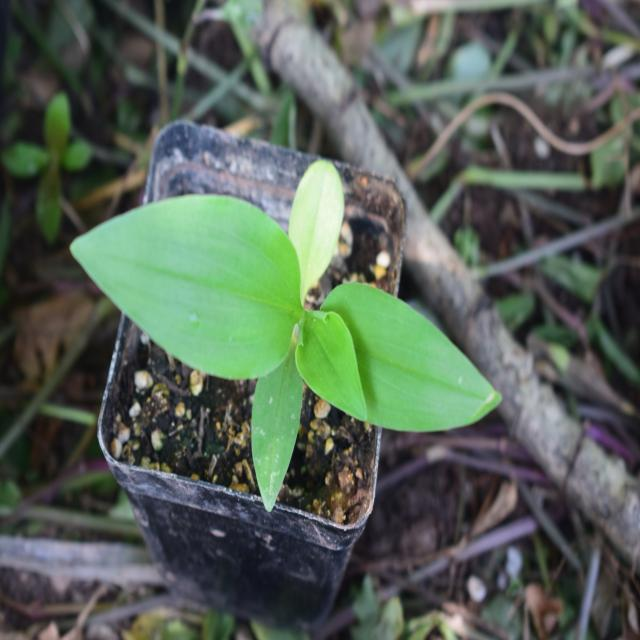Common Dayflower: (64, 184, 486, 481)
